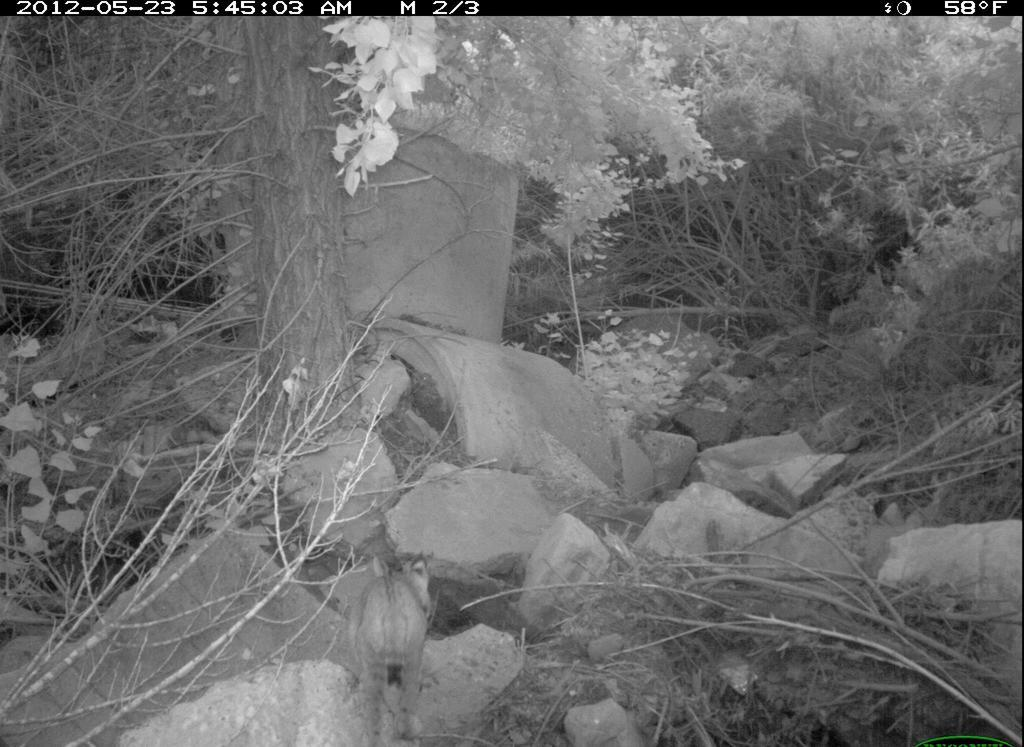bobcat: (344, 536, 465, 738)
